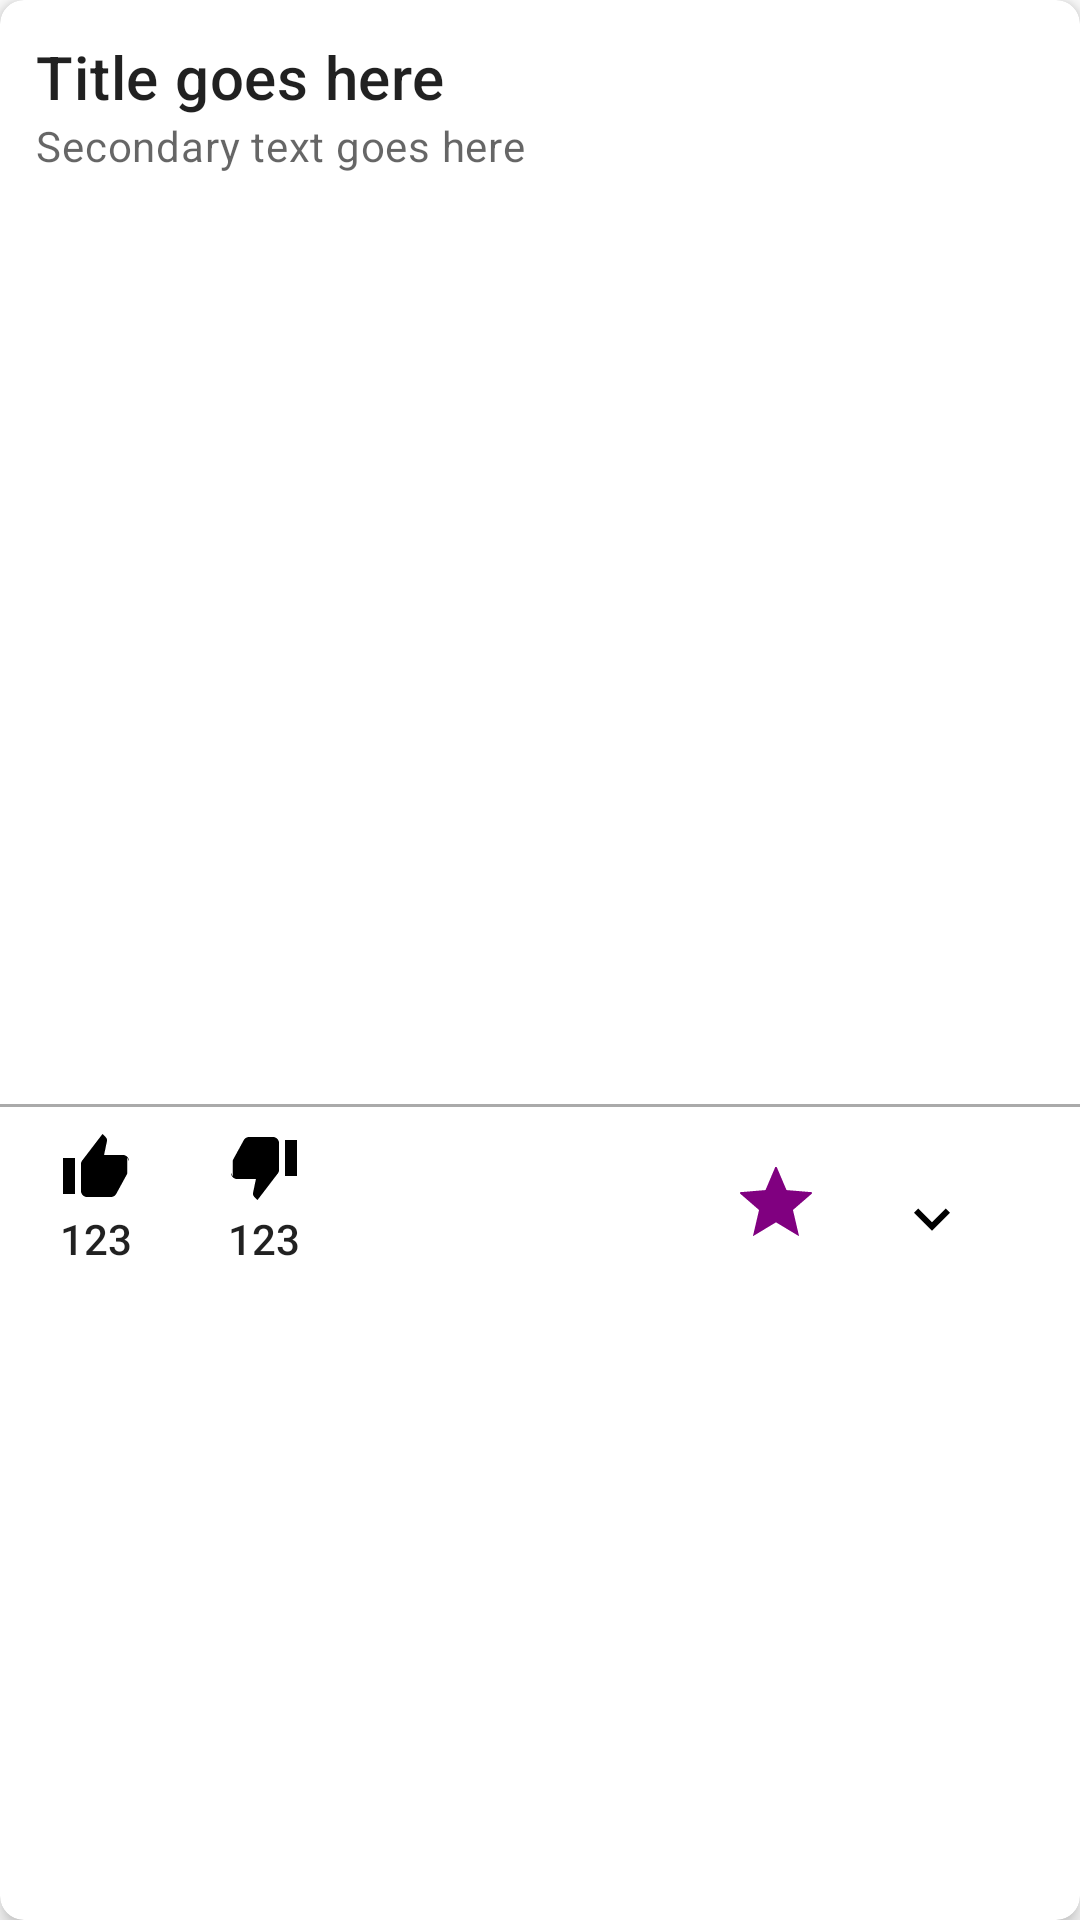

Named icons in this screenshot (1080*1920) and their centers, (x,y):
Collapse card: (932,1219)
